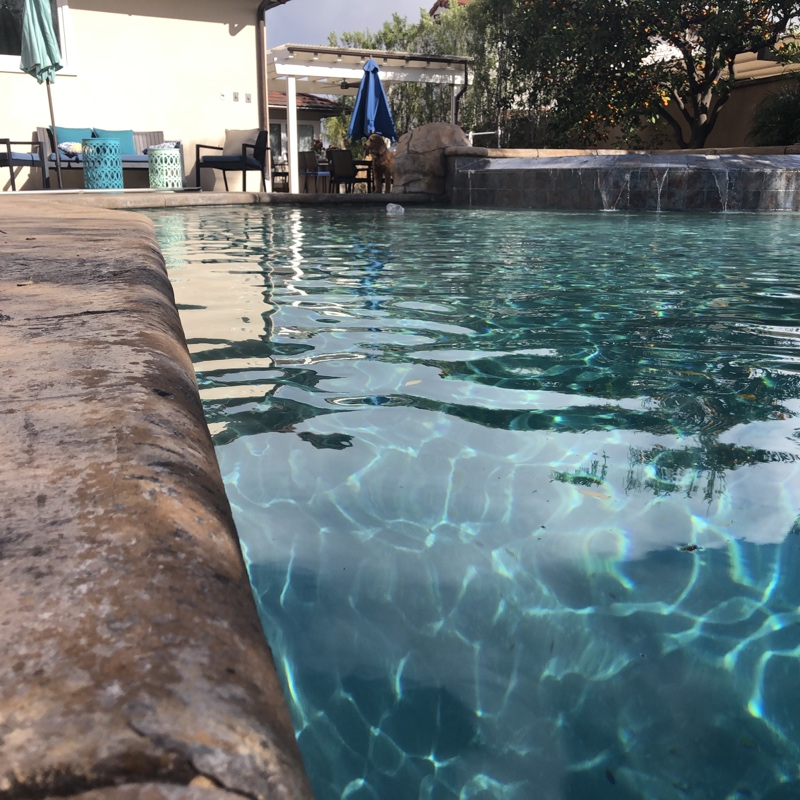Plastic Bottle: (381, 200, 405, 220)
